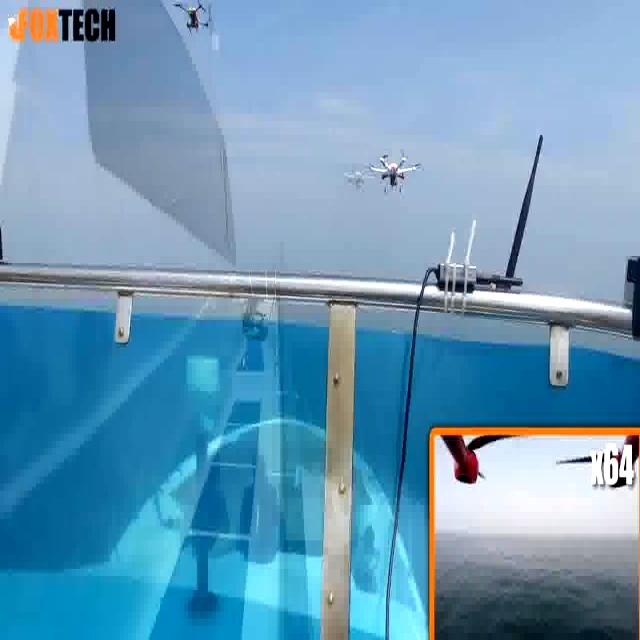drone: (358, 129, 428, 203), (163, 0, 220, 49)
